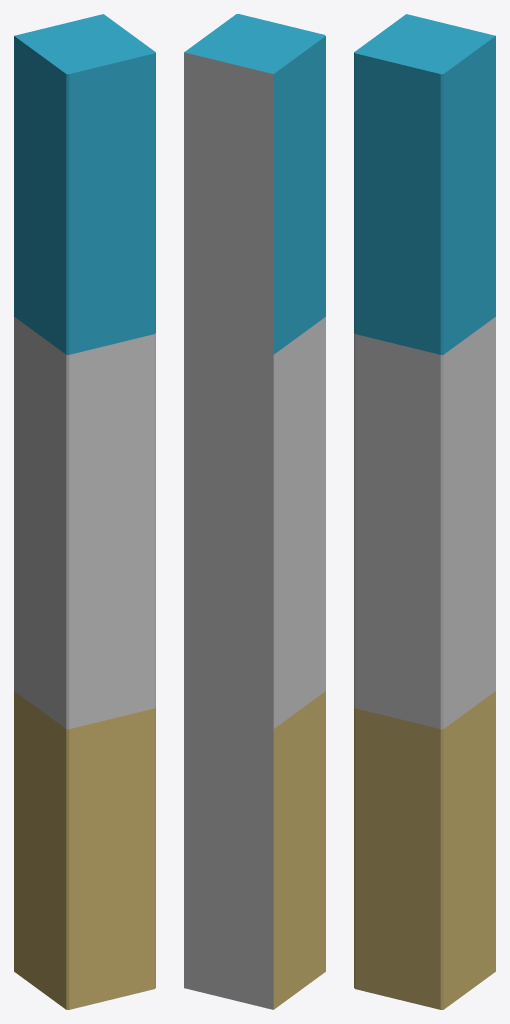
File: sporthall_column_colored.fbx
The picture shows the model from 3 angles, left to right: view 1: azimuth 30°, elevation 25°; view 2: azimuth 150°, elevation 25°; view 3: azimuth 330°, elevation 25°; orthographic projection.
Parts seen in each view (by area): view 1: sporthall_column_colored; view 2: sporthall_column_colored; view 3: sporthall_column_colored.
Boxes of the visible parts, box(x1,y1,x2,y2) form: sporthall_column_colored: box(14, 14, 155, 1009); sporthall_column_colored: box(184, 14, 325, 1009); sporthall_column_colored: box(354, 14, 495, 1009).
Size of the model in its own units: 1 by 10 by 1.03.
